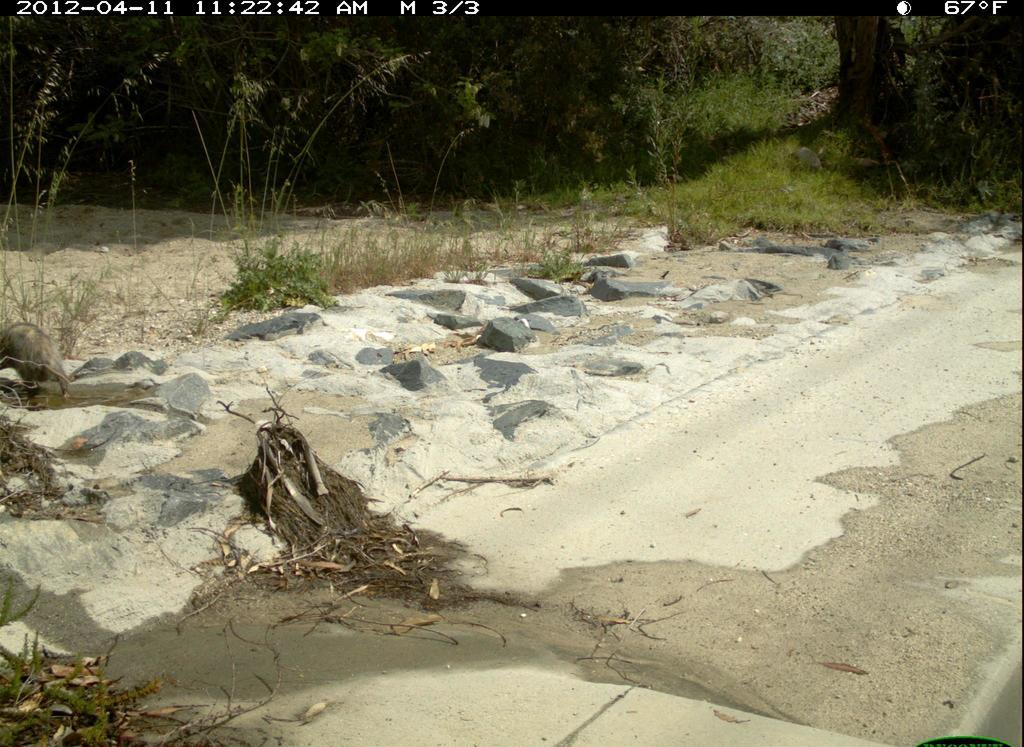opossum: (2, 313, 85, 409)
